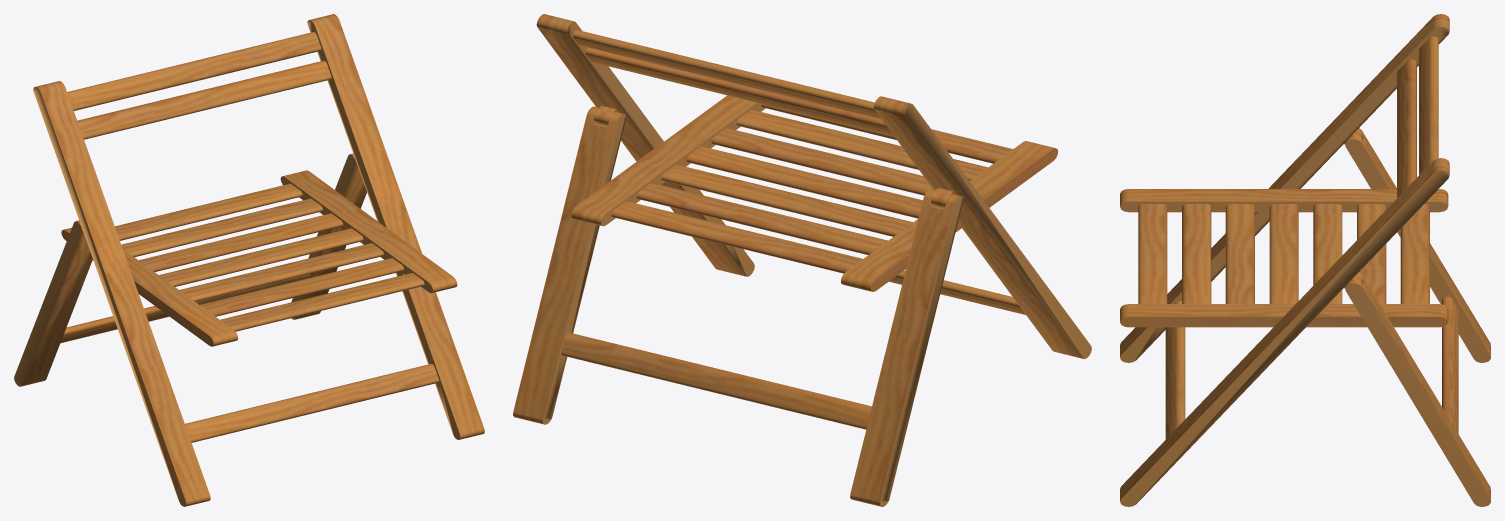
File: sh-contrib-folding-chair.glb
3 renders of one model, left to right at view 1: azimuth 30°, elevation 25°; view 2: azimuth 150°, elevation 25°; view 3: azimuth 270°, elevation 25°, orthographic. The views are drawn at different scales.
Parts seen in each view (by area): view 1: long_1; view 2: long_1; view 3: long_1.
Boxes of the visible parts, <box> form: long_1: <box>14,14,484,506</box>; long_1: <box>513,14,1091,506</box>; long_1: <box>1120,14,1490,506</box>.
Bounding box in the file's own units: 1 × 1 × 1.
2 materials, 1 textured.
